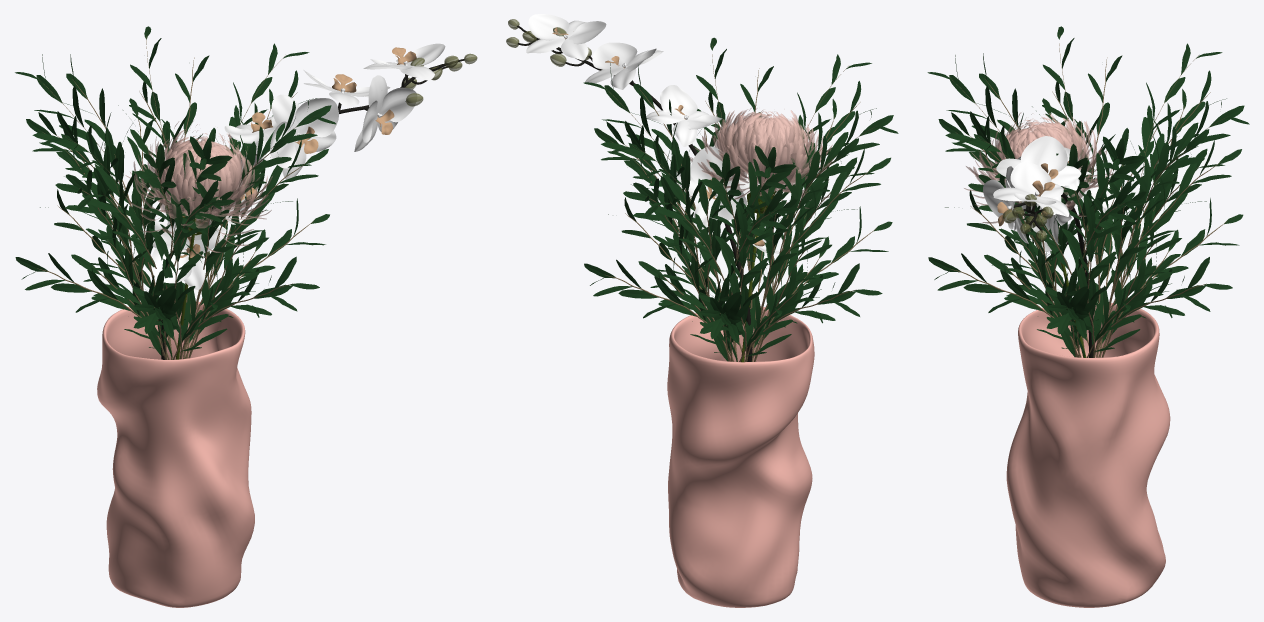
Rendered from bouquet_1734819928383.glb.
3 renders of one model, left to right at view 1: azimuth 30°, elevation 25°; view 2: azimuth 150°, elevation 25°; view 3: azimuth 270°, elevation 25°, orthographic. The views are drawn at different scales.
Size of the model in its own units: 2.59 by 3 by 1.73.
